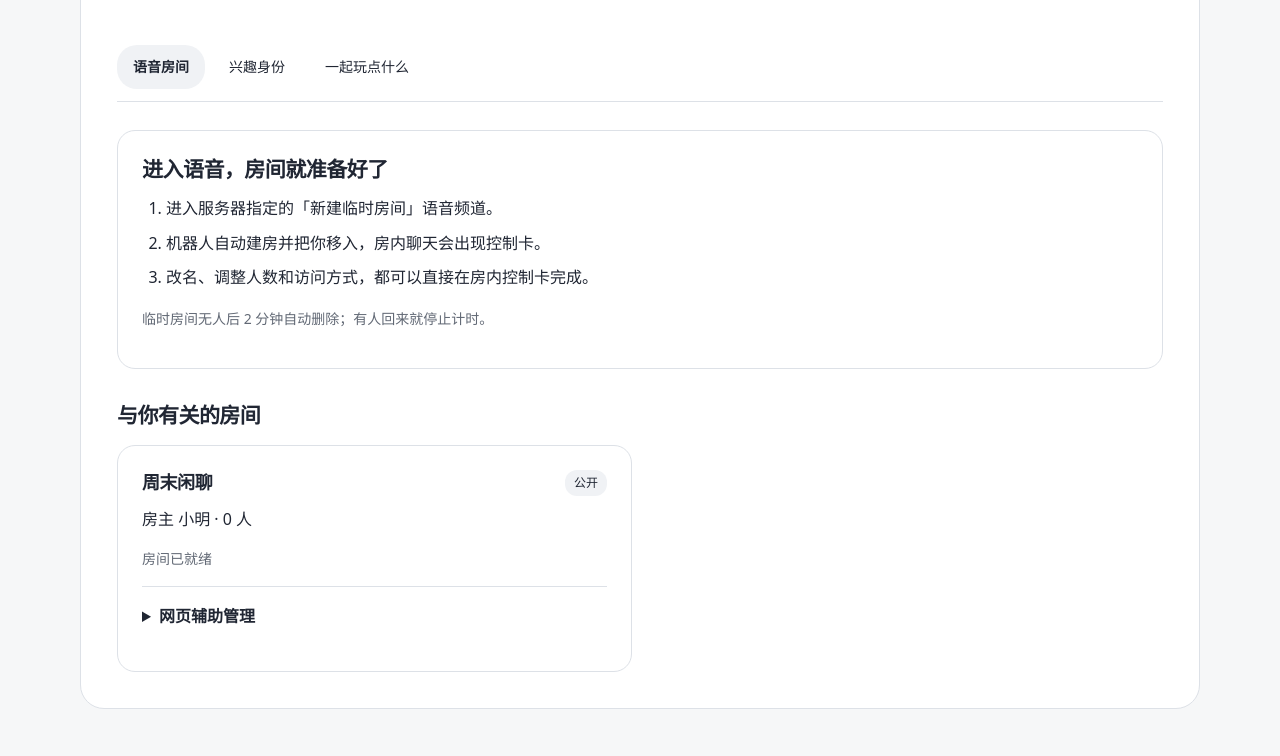
Scenario: keeps web management auxiliary and submits an explicit room change with its version
(page scrolled)
Expected: the heading "周末闲聊" is shown, 142,470 -> 212,494
Step 1. Click the heading "网页辅助管理" → [207, 616], box 159,605 -> 255,627
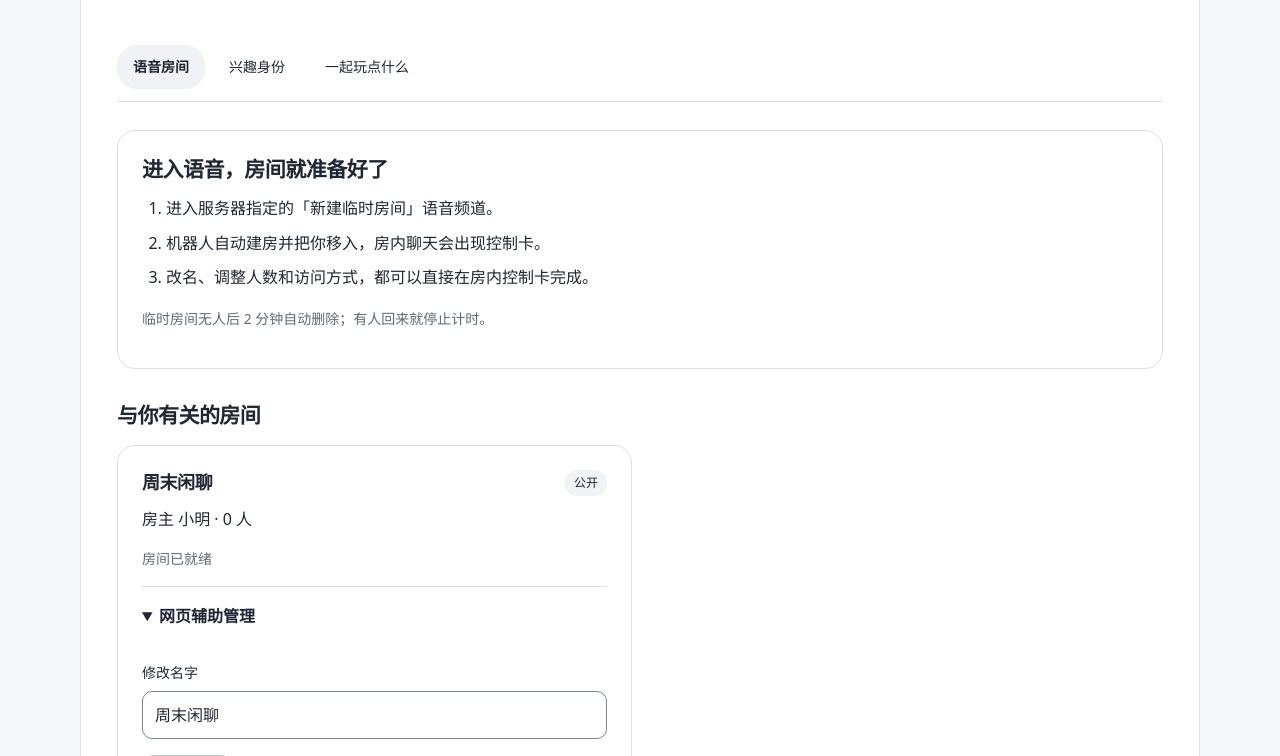
Step 2. Replace the text in the field labelled "修改名字" with "周末闲聊新名字" → [374, 715], box 142,691 -> 607,739
(page scrolled)
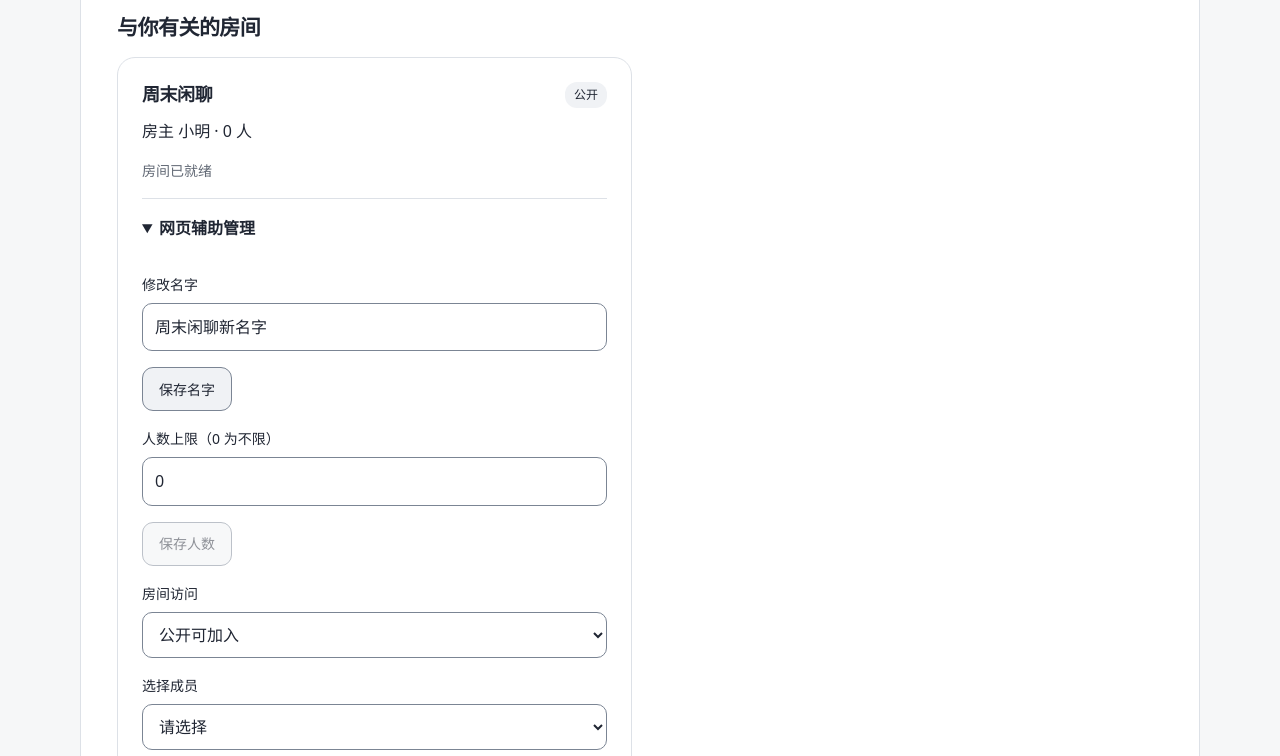
Step 3. Click the button "保存名字" → [187, 389], box 142,367 -> 232,411
(page scrolled)
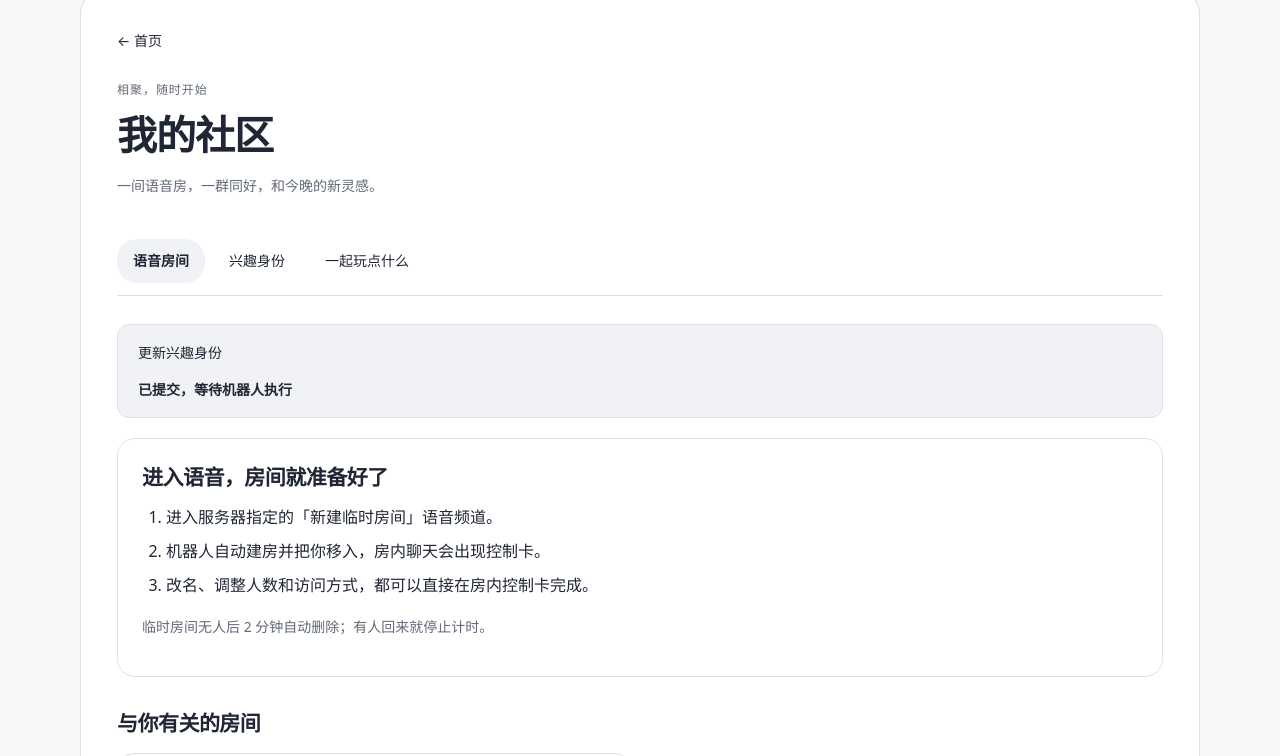
Result: the text "已提交，等待机器人执行" is shown at 138,380 -> 292,399
